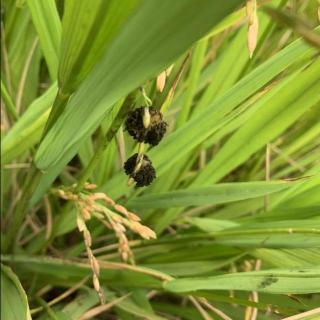Gosong-Palsu: (123, 104, 167, 148), (122, 154, 158, 188)
